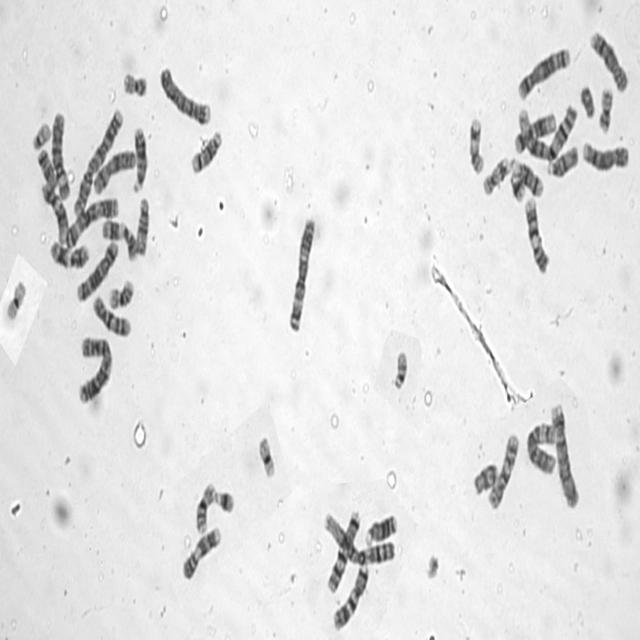A1: (321, 508, 397, 567), (513, 102, 578, 163)
A2: (71, 104, 124, 218), (75, 332, 114, 406)
A3: (286, 213, 316, 333), (61, 193, 120, 251)
B4: (158, 62, 212, 127), (550, 398, 581, 508)
B5: (515, 43, 572, 102), (75, 237, 120, 303)
C10: (489, 434, 520, 509), (91, 292, 132, 338)
C11: (100, 215, 138, 262), (48, 237, 90, 271)
C12: (513, 108, 557, 156), (40, 180, 69, 243)
C6: (524, 419, 558, 476), (50, 107, 70, 201)
C7: (324, 507, 362, 595), (331, 560, 370, 632)
C8: (588, 27, 629, 94), (580, 135, 630, 173)
C9: (180, 522, 223, 581), (522, 194, 550, 276)
D13: (130, 124, 148, 195), (363, 511, 398, 546)
D14: (188, 126, 223, 176), (512, 158, 544, 199)
D15: (544, 142, 579, 178), (134, 194, 150, 256)
E16: (192, 477, 216, 535), (106, 274, 135, 310)
E17: (480, 152, 511, 199), (466, 114, 486, 178)
E18: (471, 458, 499, 498), (35, 144, 56, 185)
F19: (5, 276, 27, 322), (256, 431, 276, 480)
F20: (596, 84, 614, 134), (120, 67, 148, 99)
G21: (214, 483, 236, 514), (509, 164, 526, 204)
G22: (390, 346, 409, 392), (30, 118, 52, 152)
X: (92, 146, 137, 197)
Y: (578, 82, 596, 120)
